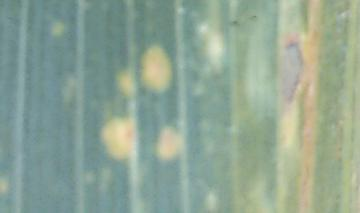tarspot: (230, 18, 240, 27), (249, 13, 258, 20)
